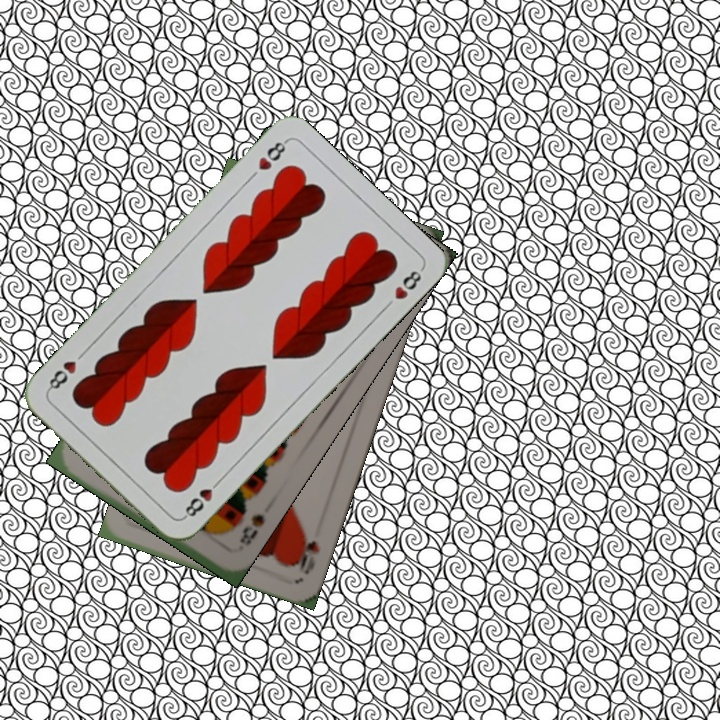H8: (179, 474, 224, 521), (254, 136, 290, 173)
HO: (291, 528, 322, 577)
S8: (235, 510, 267, 549)
